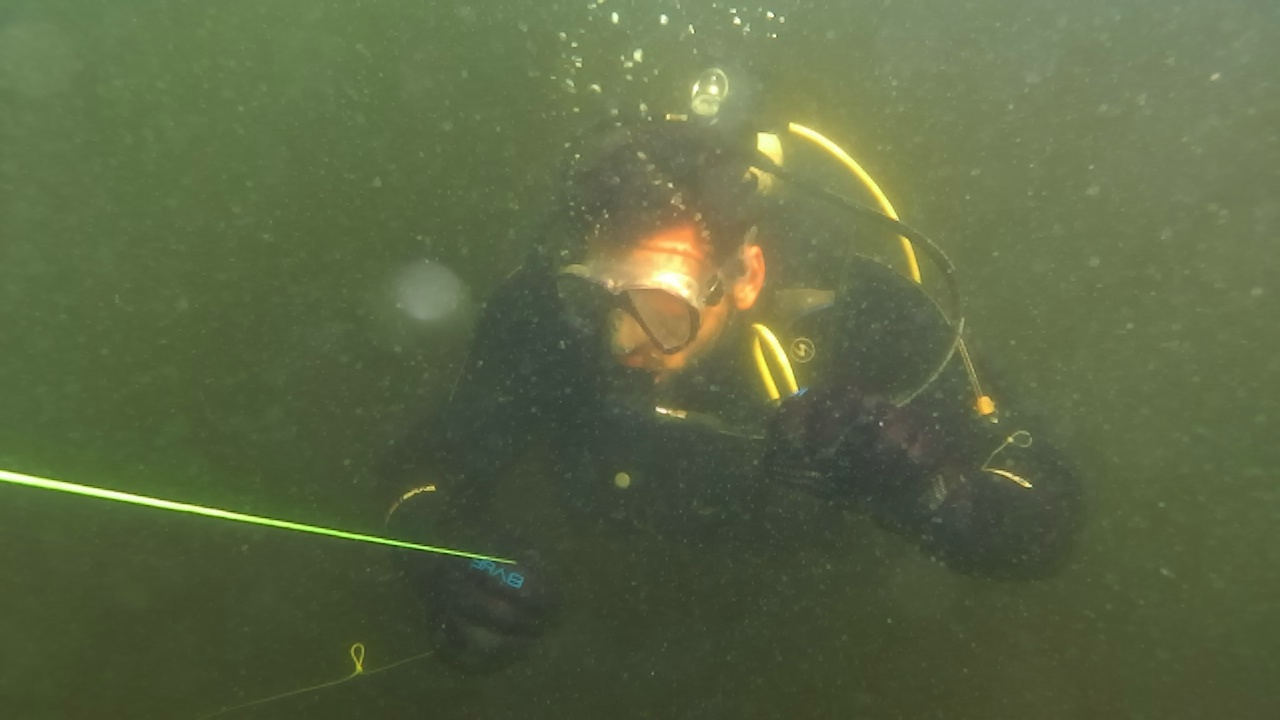Diver: (352, 66, 1102, 688)
Hand: (426, 516, 576, 678)
Head: (540, 164, 756, 424)
